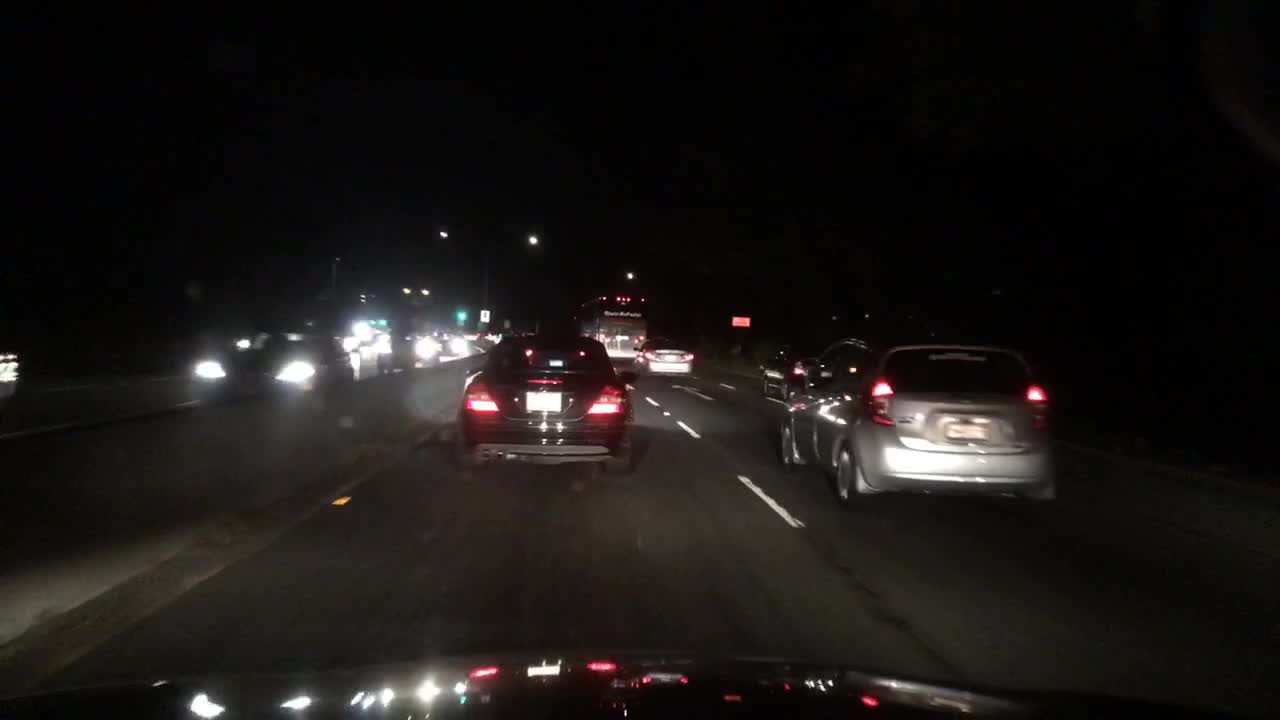bus: (573, 296, 648, 379)
car: (779, 333, 1069, 518), (457, 330, 634, 476), (189, 324, 356, 400), (758, 333, 876, 408), (632, 336, 695, 383), (423, 328, 467, 359), (342, 328, 390, 356)
traffic light: (458, 308, 466, 321), (379, 314, 385, 328)
traffic sign: (733, 315, 751, 328), (479, 309, 488, 323)
